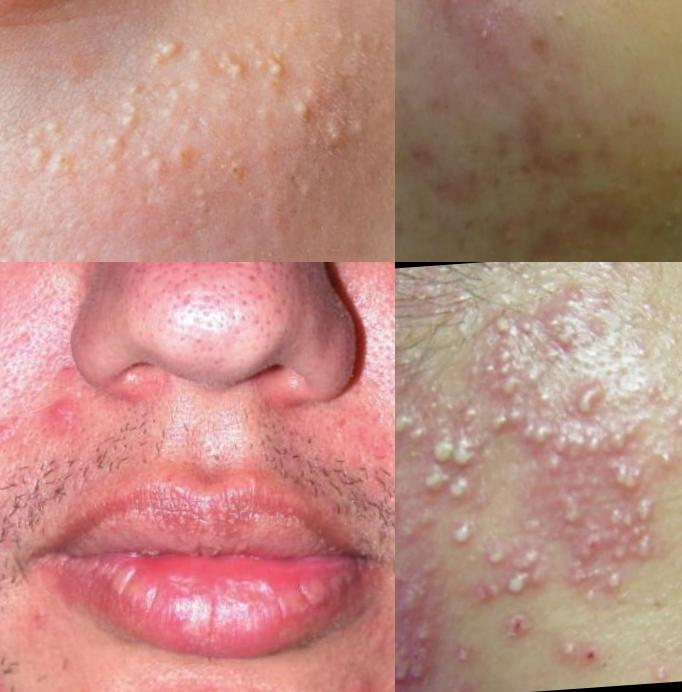acne_scars: (520, 114, 561, 191), (424, 171, 491, 212)
milium: (95, 133, 180, 189), (142, 77, 211, 124), (318, 107, 373, 149), (24, 141, 79, 183), (12, 112, 66, 150), (168, 32, 220, 70), (135, 39, 185, 75), (276, 87, 321, 126), (209, 41, 250, 83), (109, 91, 146, 130), (254, 51, 292, 87), (114, 73, 152, 100), (286, 176, 318, 204), (270, 1, 302, 13)
papular: (37, 382, 92, 442), (441, 635, 484, 678), (1, 416, 28, 464), (643, 653, 681, 685), (332, 673, 384, 692), (430, 1, 468, 24), (472, 20, 497, 54)
purulent: (595, 525, 669, 577), (438, 511, 487, 556), (488, 307, 540, 349), (544, 312, 588, 360), (460, 575, 509, 617), (511, 536, 554, 577), (396, 403, 433, 448), (552, 492, 593, 532), (599, 561, 639, 602), (488, 373, 531, 409), (488, 337, 527, 376), (412, 467, 450, 506), (649, 435, 682, 479), (478, 539, 518, 575), (499, 566, 535, 603), (442, 472, 479, 505), (552, 635, 588, 668), (570, 386, 607, 418), (537, 450, 573, 482)
sebo-crystan-conglo: (545, 419, 650, 463), (492, 402, 556, 454), (596, 490, 668, 534), (422, 436, 486, 476), (603, 455, 658, 498), (396, 641, 430, 692)
whitehead: (541, 11, 580, 45), (484, 227, 527, 256), (657, 214, 682, 251)
